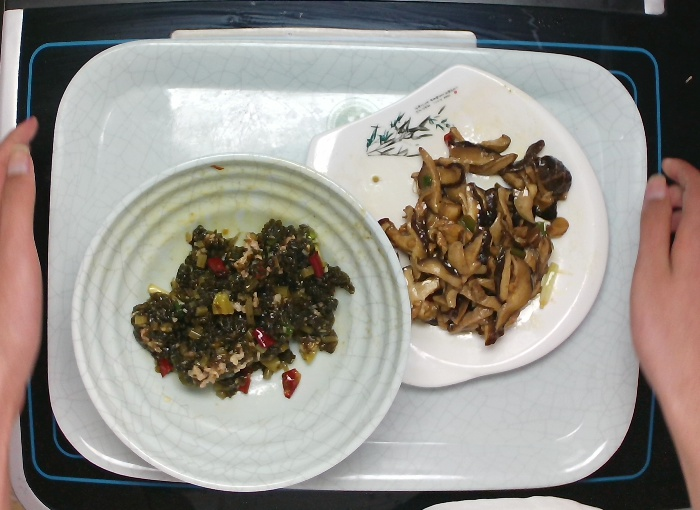JYsf-Da_Tang_Wan: (67, 151, 421, 498)
JYsf-Mian_Pan: (304, 58, 615, 395)
